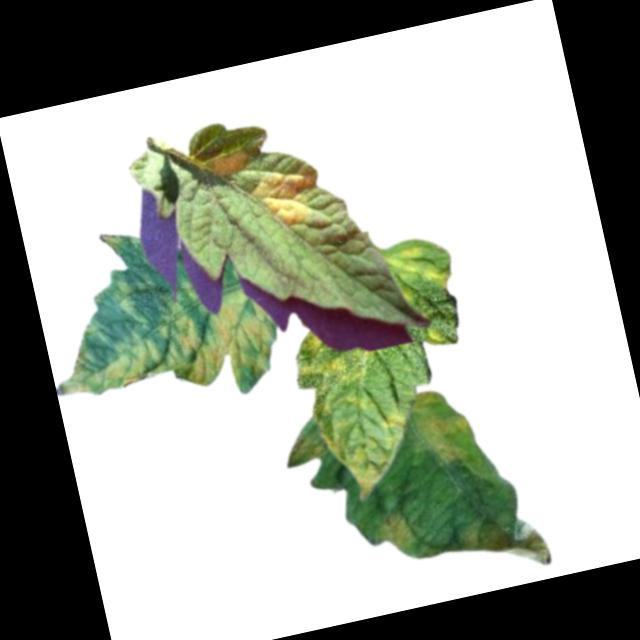Leaf_Mold: (43, 284, 284, 431), (307, 370, 420, 503), (459, 503, 554, 583), (285, 320, 378, 397), (403, 382, 480, 469), (247, 161, 324, 236), (382, 236, 454, 305), (369, 505, 419, 558), (280, 427, 329, 469), (209, 144, 255, 181), (422, 324, 450, 351)
